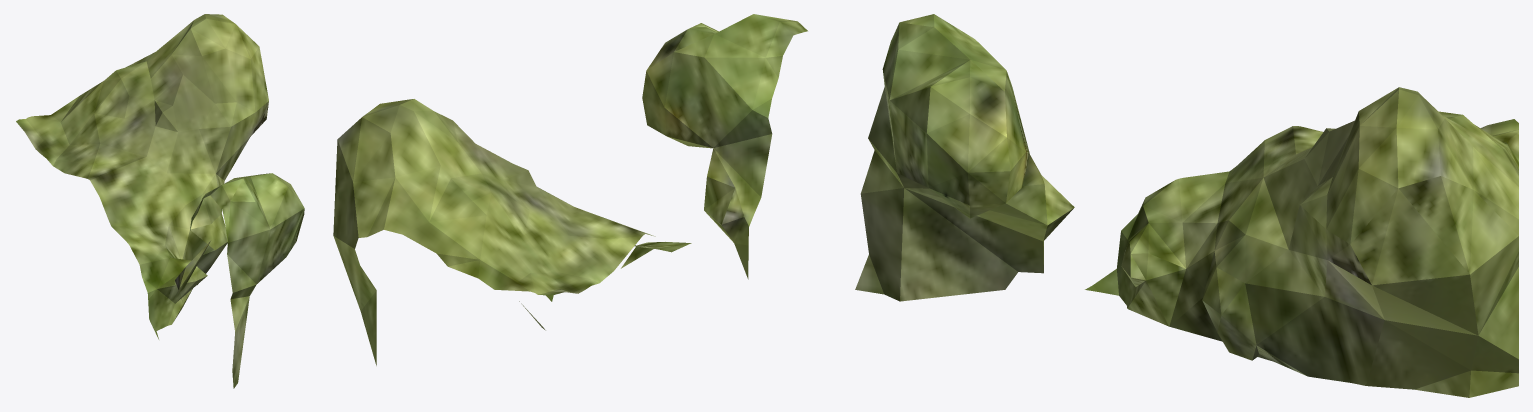
The picture shows the model from 3 angles, left to right: view 1: azimuth 30°, elevation 25°; view 2: azimuth 150°, elevation 25°; view 3: azimuth 270°, elevation 25°; orthographic projection. The views are drawn at different scales.
Size of the model in its own units: 0.762 by 0.7416 by 1.44.
1 material, 1 textured.
